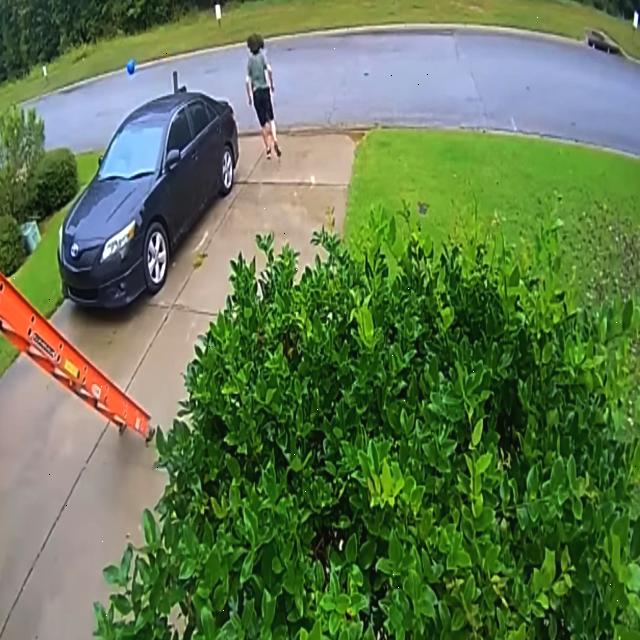standing: (247, 34, 281, 158)
